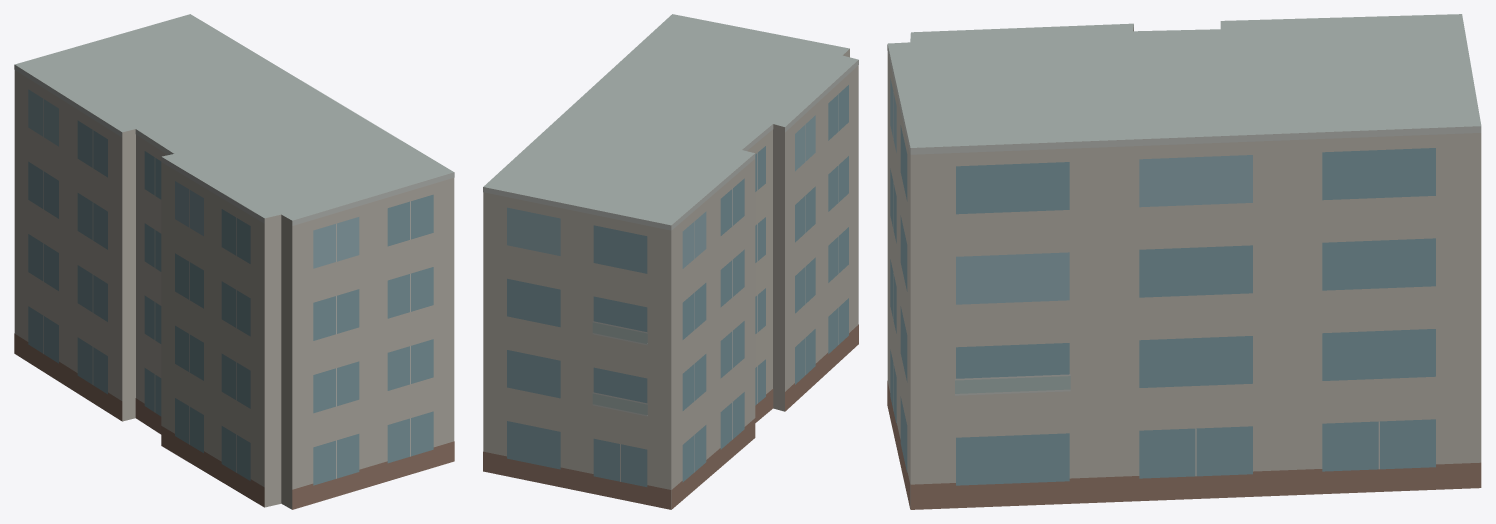
Rendered from survey-upis-32953468.glb.
The picture shows the model from 3 angles, left to right: view 1: azimuth 30°, elevation 25°; view 2: azimuth 150°, elevation 25°; view 3: azimuth 270°, elevation 25°; orthographic projection. The views are drawn at different scales.
Visible parts, largest first — view 1: survey-upis-32953468.tmp; view 2: survey-upis-32953468.tmp; view 3: survey-upis-32953468.tmp.
Boxes of the visible parts, left/top/right/bottom form: survey-upis-32953468.tmp: left=14, top=14, right=454, bottom=509; survey-upis-32953468.tmp: left=483, top=14, right=858, bottom=509; survey-upis-32953468.tmp: left=887, top=14, right=1481, bottom=509.
Bounding box in the file's own units: 10.5 × 13.2 × 19.65.
